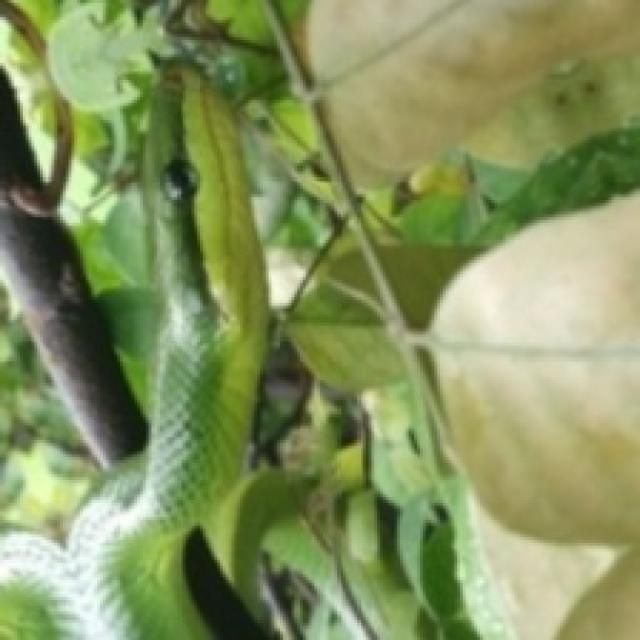red-tailed green ratsnake: (0, 71, 269, 639)
